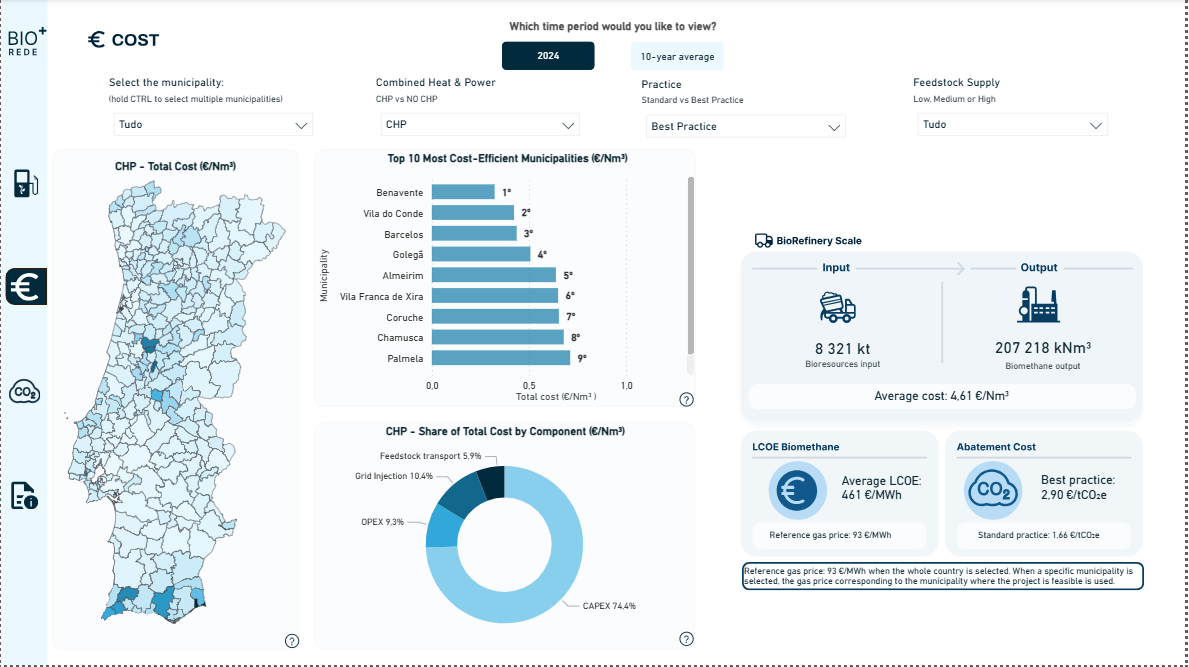

Layout of this report page (visuals, bound fields, positions):
{"tool":"powerbi","page":{"name":"Cost","canvas":[1280,720],"ordinal":3},"visuals":[{"type":"shape","title":"Barra_lateral","box":[0,0,50,720],"z":0,"group":"g2"},{"type":"shapeMap","fields":{"Category":["Cost.Municipality"],"Value":["Sum(Cost.TOTAL €/Nm-3)"]},"box":[55,164.4,266.7,540],"z":1000,"group":"g1"},{"type":"shape","box":[5,292,45,40],"z":1000,"group":"g2"},{"type":"card","fields":{"Values":["Cost.Titulo_mapa_cost"]},"box":[64.5,164,247.1,40],"z":1500,"group":"g1"},{"type":"group","id":"g1","title":"Grupo 1","box":[55,164,266.9,540.4],"z":2000},{"type":"donutChart","fields":{"Y":["Avg(Cost.CAPEX €/Nm⁻³ )","Avg(Cost.OPEX €/Nm⁻³ )","Avg(Cost.GRID INJECTION €/Nm⁻³ )","Avg(Cost.TRANSPORT €/Nm⁻³ )"]},"box":[338.4,459,410.7,244.5],"z":2000,"group":"g5"},{"type":"actionButton","title":"Duvidas_total_mapa","box":[304,686,17.9,17.9],"z":2000,"group":"g1"},{"type":"slicer","title":"Select the municipality:","fields":{"Values":["Municipality.Municipality"]},"box":[117,85,225,68],"z":3000},{"type":"actionButton","title":"Total_button","box":[5,180,44,40],"z":3000,"group":"g2"},{"type":"group","id":"g2","title":"Menu lateral abaerto","box":[0,0,50,720],"z":4000},{"type":"group","id":"g3","title":"Grupo 3","box":[541,-3.9,240,83.3],"z":5000},{"type":"actionButton","title":"Info_button","box":[3,516,44,40.6],"z":5000,"group":"g2"},{"type":"group","id":"g4","title":"Grupo 4","box":[338,164,411.5,278],"z":6000},{"type":"actionButton","title":"Euro_button","box":[3.6,404,44,40],"z":6000,"group":"g2"},{"type":"actionButton","title":"Person_button","box":[3.6,292,44,40],"z":7000,"group":"g2"},{"type":"group","id":"g5","title":"Grupo 5","box":[338.4,459,410.7,244.5],"z":7000},{"type":"actionButton","title":"MEM+","box":[0,22.1,49.9,49.9],"z":8000,"group":"g2"},{"type":"actionButton","box":[77,35,120.3,29.6],"z":8000},{"type":"actionButton","title":"TE_total_button","box":[680.7,47,100.3,31.3],"z":8000,"group":"g7"},{"type":"clusteredBarChart","title":"Top 10 Most Cost-Efficient Municipalities (€/Nm³)","fields":{"Category":["Cost_TOP10.Municipality"],"Y":["Sum(Cost_TOP10.TOTAL €/Nm-3)"]},"box":[338,164,411.5,278],"z":8000,"group":"g4"},{"type":"actionButton","box":[541.3,46.8,100,30.8],"z":10000,"group":"g7"},{"type":"actionButton","title":"biorefinery_scale_kpi","box":[764.8,141,503,577.6],"z":10000,"group":"g6"},{"type":"group","id":"g6","title":"Grupo 6","box":[764.8,141,503,577.6],"z":10000},{"type":"cardVisual","fields":{"Data":["Cost.sentence_lcoe"]},"box":[895.7,492,120,71],"z":10500,"group":"g6"},{"type":"slicer","title":"Combined Heat & Power","fields":{"Values":["CHP.CHP_or_not"]},"box":[405,85,225,68],"z":11000},{"type":"cardVisual","fields":{"Data":["Cost.KPI_input_kt"]},"box":[824.8,360,169.3,50.1],"z":12000},{"type":"cardVisual","fields":{"Data":["Cost.KPI_output_kt"]},"box":[1030.6,360,190.2,51.9],"z":12000,"group":"g6"},{"type":"slicer","title":"Feedstock Supply","fields":{"Values":["Supply.Supply"]},"box":[980,85,225,68],"z":13000},{"type":"cardVisual","fields":{"Data":["Cost.sentence_kpi_input_outout"]},"box":[826.5,418,379.7,20],"z":13000,"group":"g6"},{"type":"actionButton","title":"Duvidas_total_ranking","box":[730,424,17.9,17.9],"z":13000,"group":"g4"},{"type":"actionButton","title":"Duvidas_total_setor","box":[730.1,684,17.9,17.4],"z":13000,"group":"g5"},{"type":"textbox","box":[541,-3.9,240,83.3],"z":14000,"group":"g3"},{"type":"slicer","title":"Practice","fields":{"Values":["Practice.Practice"]},"box":[692,85.1,225.7,68.1],"z":14000},{"type":"group","id":"g7","title":"Grupo 2","box":[541.3,46.8,239.7,31.5],"z":14500,"group":"g3"},{"type":"cardVisual","fields":{"Data":["Cost.sentence_baseline_ng_price"]},"box":[818.4,568,173.4,21.6],"z":14500,"group":"g6"},{"type":"cardVisual","fields":{"Data":["Cost.KPI_AC_Best_practice"]},"box":[1110.7,492.9,128.1,71.6],"z":15000,"group":"g6"},{"type":"shape","box":[799.7,609.4,434.1,30.6],"z":15000},{"type":"cardVisual","fields":{"Data":["Cost.KPI_AC_Standard"]},"box":[1043.5,568,165,21.6],"z":15500,"group":"g6"}]}

Visuals, with their boxes in screenshot pixels (x1, y1, x2, y2), scaled from the page's 1280x720 canvas onto the 1189x667 screenshot:
"Barra_lateral" shape: 0/0/46/666
shapeMap - Cost.Municipality x Sum(Cost.TOTAL €/Nm-3): 51/152/299/653
shape: 5/271/46/308
card - Cost.Titulo_mapa_cost: 60/152/289/189
"Grupo 1" group: 51/152/299/653
donutChart - Avg(Cost.CAPEX €/Nm⁻³ ) x Avg(Cost.OPEX €/Nm⁻³ ): 314/425/696/652
"Duvidas_total_mapa" actionButton: 282/636/299/652
"Select the municipality:" slicer: 109/79/318/142
"Total_button" actionButton: 5/167/46/204
"Menu lateral abaerto" group: 0/0/46/666
"Grupo 3" group: 503/0/725/74
"Info_button" actionButton: 3/478/44/516
"Grupo 4" group: 314/152/696/409
"Euro_button" actionButton: 3/374/44/411
"Person_button" actionButton: 3/271/44/308
"Grupo 5" group: 314/425/696/652
"MEM+" actionButton: 0/20/46/67
actionButton: 72/32/183/60
"TE_total_button" actionButton: 632/44/725/73
"Top 10 Most Cost-Efficient Municipalities (€/Nm³)" clusteredBarChart: 314/152/696/409
actionButton: 503/43/596/72
"biorefinery_scale_kpi" actionButton: 710/131/1178/666
"Grupo 6" group: 710/131/1178/666
cardVisual - Cost.sentence_lcoe: 832/456/943/522
"Combined Heat & Power" slicer: 376/79/585/142
cardVisual - Cost.KPI_input_kt: 766/334/923/380
cardVisual - Cost.KPI_output_kt: 957/334/1134/382
"Feedstock Supply" slicer: 910/79/1119/142
cardVisual - Cost.sentence_kpi_input_outout: 768/387/1120/406
"Duvidas_total_ranking" actionButton: 678/393/695/409
"Duvidas_total_setor" actionButton: 678/634/695/650
textbox: 503/0/725/74
"Practice" slicer: 643/79/852/142
"Grupo 2" group: 503/43/725/73
cardVisual - Cost.sentence_baseline_ng_price: 760/526/921/546
cardVisual - Cost.KPI_AC_Best_practice: 1032/457/1151/523
shape: 743/565/1146/593
cardVisual - Cost.KPI_AC_Standard: 969/526/1123/546
